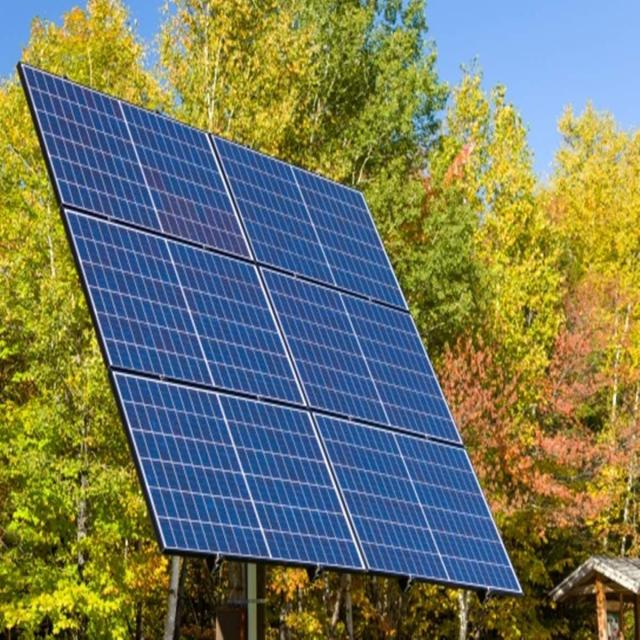clean-solar-panel: (19, 63, 521, 594)
